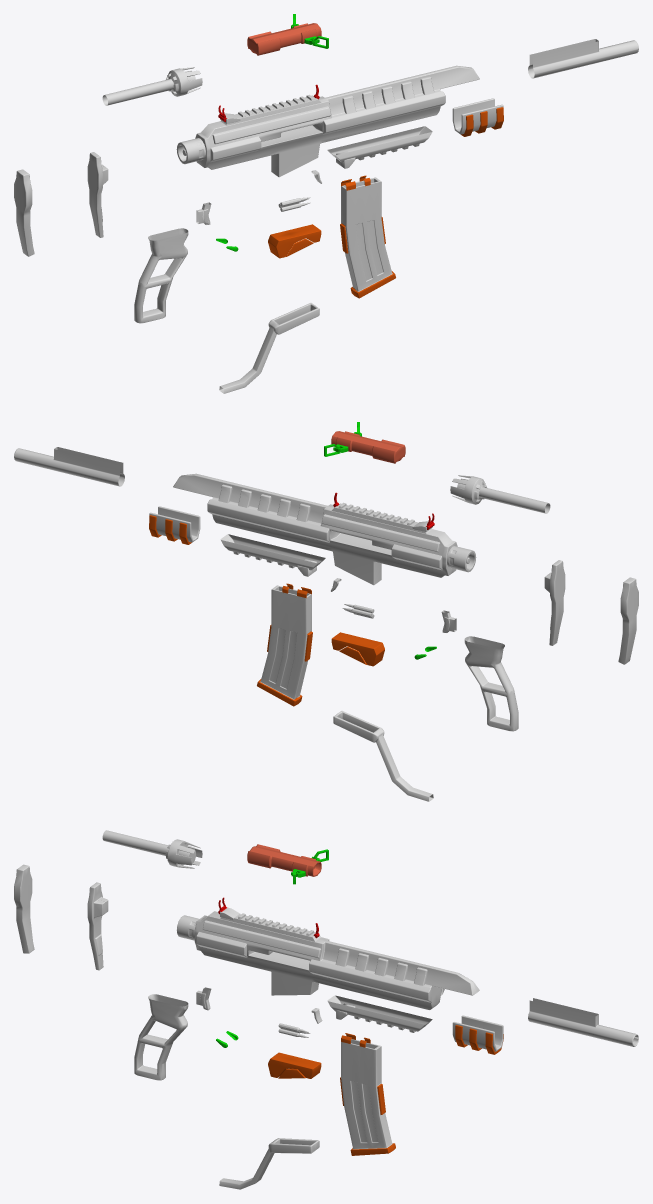
3 renders of one model, top to bottom at view 1: azimuth 30°, elevation 25°; view 2: azimuth 150°, elevation 25°; view 3: azimuth 330°, elevation 25°, orthographic.
Visible parts, largest first — view 1: Body.001, Mag_Mesh, HandleLight_Mesh, Barrel, BottomRail, MagConnector_Mesh, StockLight_Mesh, Thing_Mesh, BarrelCover, StockLightPillow_Mesh, FireMode_Mesh, SightRail_Mesh (+3 smaller); view 2: Body.001, Mag_Mesh, HandleLight_Mesh, Barrel, BottomRail, MagConnector_Mesh, StockLight_Mesh, Thing_Mesh, BarrelCover, StockLightPillow_Mesh, FireMode_Mesh, SightRail_Mesh (+3 smaller); view 3: Body.001, Mag_Mesh, HandleLight_Mesh, Barrel, BottomRail, StockLight_Mesh, Thing_Mesh, BarrelCover, StockLightPillow_Mesh, MagConnector_Mesh, FireMode_Mesh, SightRail_Mesh (+2 smaller).
Part boxes in pixels (left/top/right/bottom): Body.001: left=195, top=65, right=479, bottom=177; Mag_Mesh: left=340, top=175, right=395, bottom=298; HandleLight_Mesh: left=134, top=228, right=188, bottom=323; Barrel: left=528, top=39, right=638, bottom=78; BottomRail: left=327, top=126, right=432, bottom=168; MagConnector_Mesh: left=219, top=303, right=319, bottom=393; StockLight_Mesh: left=102, top=67, right=202, bottom=105; Thing_Mesh: left=247, top=14, right=328, bottom=55; BarrelCover: left=452, top=98, right=503, bottom=136; StockLightPillow_Mesh: left=14, top=169, right=34, bottom=256; FireMode_Mesh: left=216, top=224, right=321, bottom=258; SightRail_Mesh: left=218, top=84, right=321, bottom=125; Body.001: left=173, top=473, right=457, bottom=585; Mag_Mesh: left=257, top=583, right=312, bottom=706; HandleLight_Mesh: left=464, top=636, right=518, bottom=731; Barrel: left=14, top=447, right=124, bottom=486; BottomRail: left=220, top=534, right=325, bottom=576; MagConnector_Mesh: left=333, top=711, right=433, bottom=801; StockLight_Mesh: left=450, top=475, right=550, bottom=513; Thing_Mesh: left=324, top=422, right=405, bottom=463; BarrelCover: left=149, top=506, right=200, bottom=544; StockLightPillow_Mesh: left=618, top=577, right=638, bottom=664; FireMode_Mesh: left=331, top=632, right=436, bottom=666; SightRail_Mesh: left=331, top=492, right=434, bottom=533; Body.001: left=194, top=911, right=479, bottom=1010; Mag_Mesh: left=340, top=1033, right=395, bottom=1155; HandleLight_Mesh: left=134, top=994, right=188, bottom=1080; Barrel: left=528, top=998, right=638, bottom=1046; BottomRail: left=327, top=995, right=432, bottom=1032; StockLight_Mesh: left=102, top=830, right=202, bottom=868; Thing_Mesh: left=247, top=844, right=328, bottom=884; BarrelCover: left=452, top=1015, right=503, bottom=1054; StockLightPillow_Mesh: left=14, top=864, right=34, bottom=953; MagConnector_Mesh: left=219, top=1138, right=319, bottom=1189; FireMode_Mesh: left=216, top=1031, right=321, bottom=1078; SightRail_Mesh: left=218, top=897, right=320, bottom=941.
Size of the model in its own units: 94.56 by 50.66 by 9.22.
